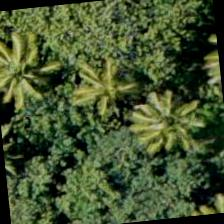Kelapa_Sawit: (119, 68, 218, 168), (121, 79, 220, 178), (60, 41, 159, 140), (0, 16, 78, 115), (0, 12, 61, 109)
